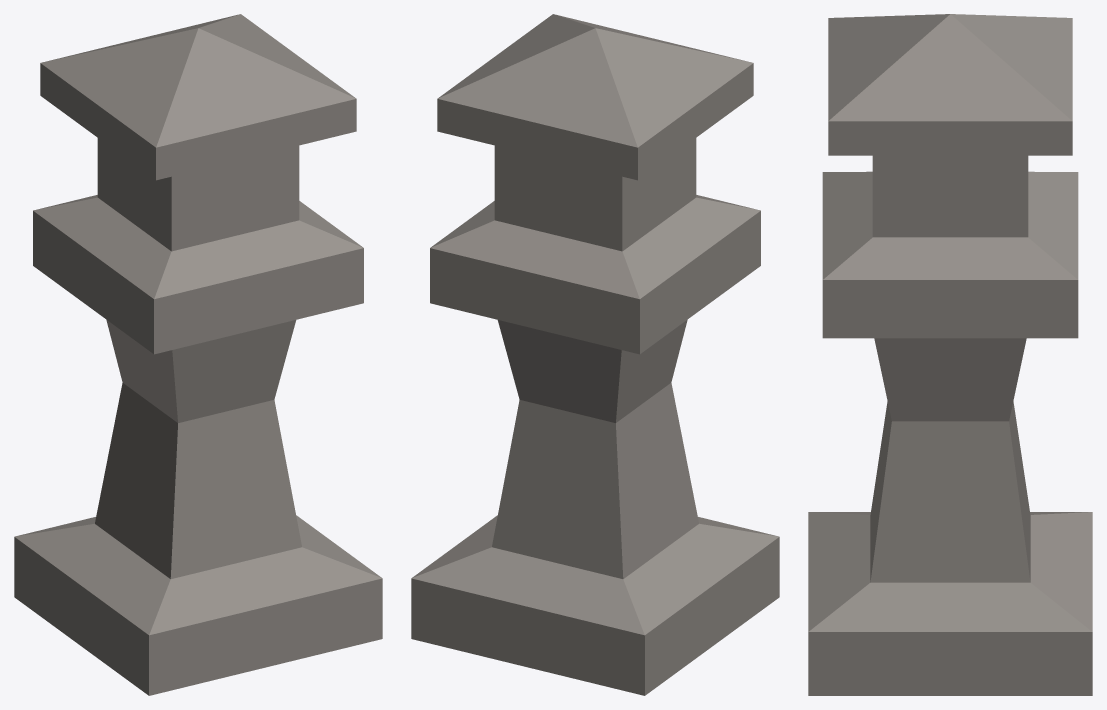
Rendered from Shrine_Tiny.fbx.
The picture shows the model from 3 angles, left to right: view 1: azimuth 30°, elevation 25°; view 2: azimuth 150°, elevation 25°; view 3: azimuth 270°, elevation 25°; orthographic projection. The views are drawn at different scales.
Parts seen in each view (by area): view 1: SM_Prop_Samurai_Shrine_02; view 2: SM_Prop_Samurai_Shrine_02; view 3: SM_Prop_Samurai_Shrine_02.
Boxes of the visible parts, x1,y1,x2,y2 form: SM_Prop_Samurai_Shrine_02: (14,14,382,695); SM_Prop_Samurai_Shrine_02: (411,14,779,695); SM_Prop_Samurai_Shrine_02: (808,14,1092,695).
Bounding box in the file's own units: 30.63 × 73.93 × 30.63.
